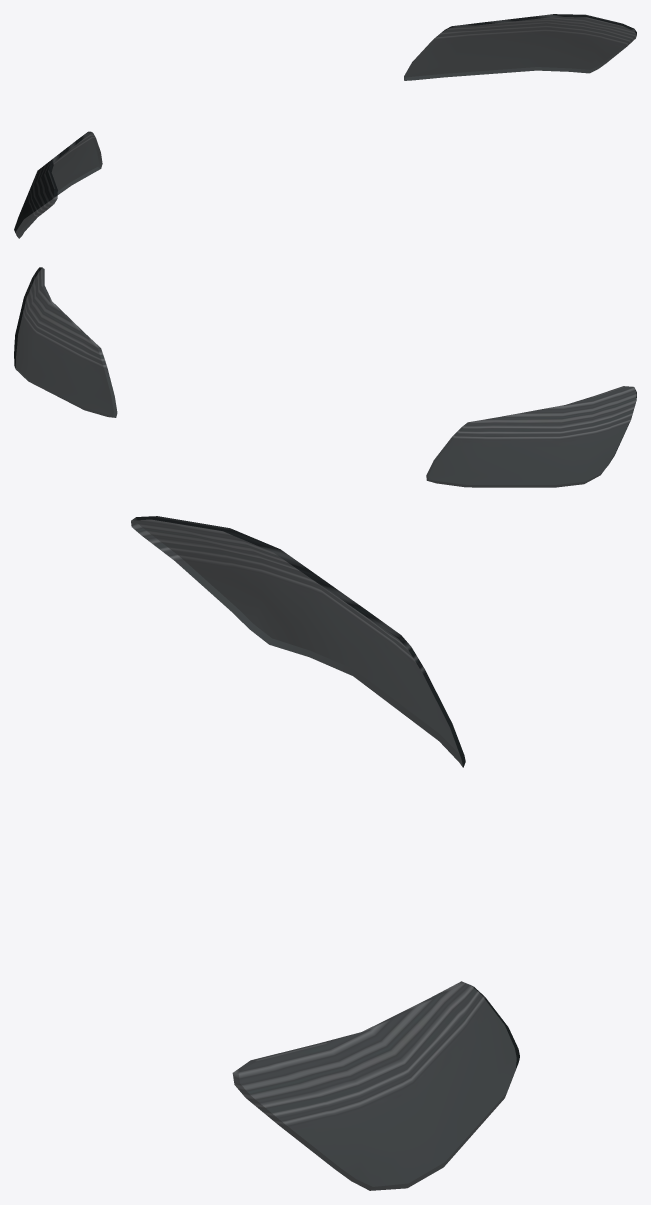
The model's file is tozzo98_headlight_glass_ucb_lights_and_glass_transperent_0_lev3.glb.
The picture shows the model from 3 angles, top to bottom: view 1: azimuth 30°, elevation 25°; view 2: azimuth 150°, elevation 25°; view 3: azimuth 270°, elevation 25°; orthographic projection. The views are drawn at different scales.
Parts seen in each view (by area): view 1: tozzo98_headlight_glass_ucb_lights_and_glass_transperent_0_l; view 2: tozzo98_headlight_glass_ucb_lights_and_glass_transperent_0_l; view 3: tozzo98_headlight_glass_ucb_lights_and_glass_transperent_0_l.
Boxes of the visible parts, <box> form: tozzo98_headlight_glass_ucb_lights_and_glass_transperent_0_l: <box>14,14,636,238</box>; tozzo98_headlight_glass_ucb_lights_and_glass_transperent_0_l: <box>14,267,636,487</box>; tozzo98_headlight_glass_ucb_lights_and_glass_transperent_0_l: <box>131,516,519,1190</box>.
Bounding box in the file's own units: 1.52 × 0.1758 × 0.4417.
1 material, 1 textured.
